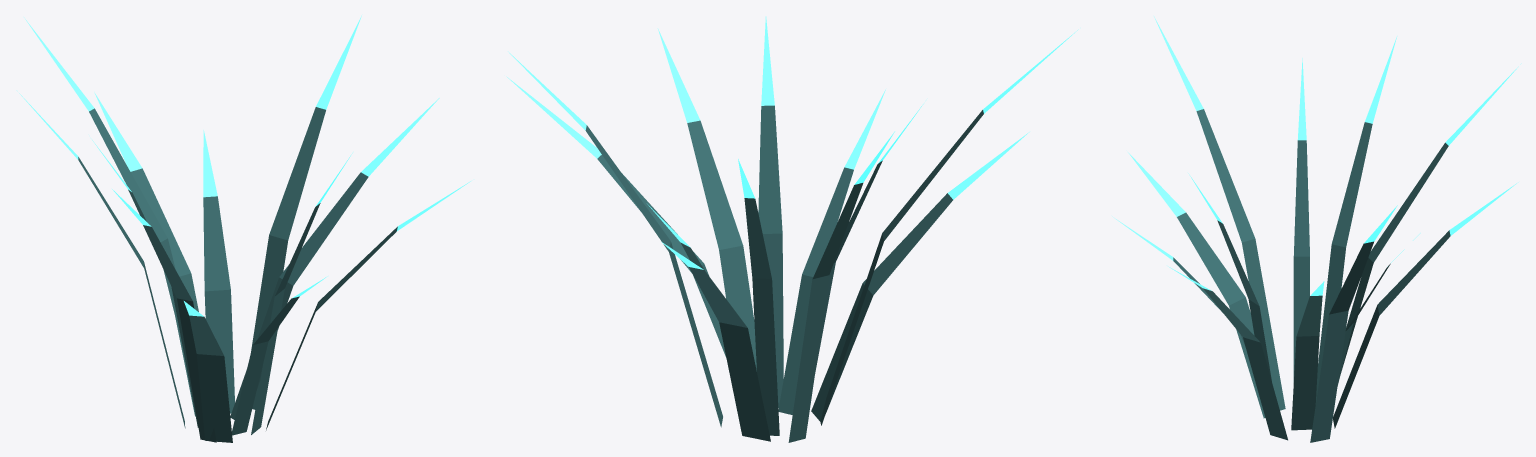
Rendered from glow_grass.glb.
The picture shows the model from 3 angles, left to right: view 1: azimuth 30°, elevation 25°; view 2: azimuth 150°, elevation 25°; view 3: azimuth 270°, elevation 25°; orthographic projection. The views are drawn at different scales.
Visible parts, largest first — view 1: glow_grass; view 2: glow_grass; view 3: glow_grass.
Boxes of the visible parts, x1,y1,x2,y2 form: glow_grass: (16, 15, 470, 442); glow_grass: (506, 16, 1078, 442); glow_grass: (1112, 16, 1521, 442).
Size of the model in its own units: 0.5138 by 0.4 by 0.4632.
